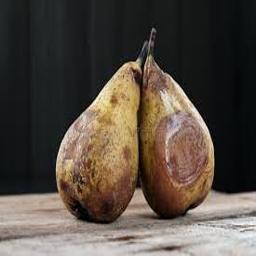Pear Rotten: (132, 28, 223, 222), (66, 45, 151, 228)
